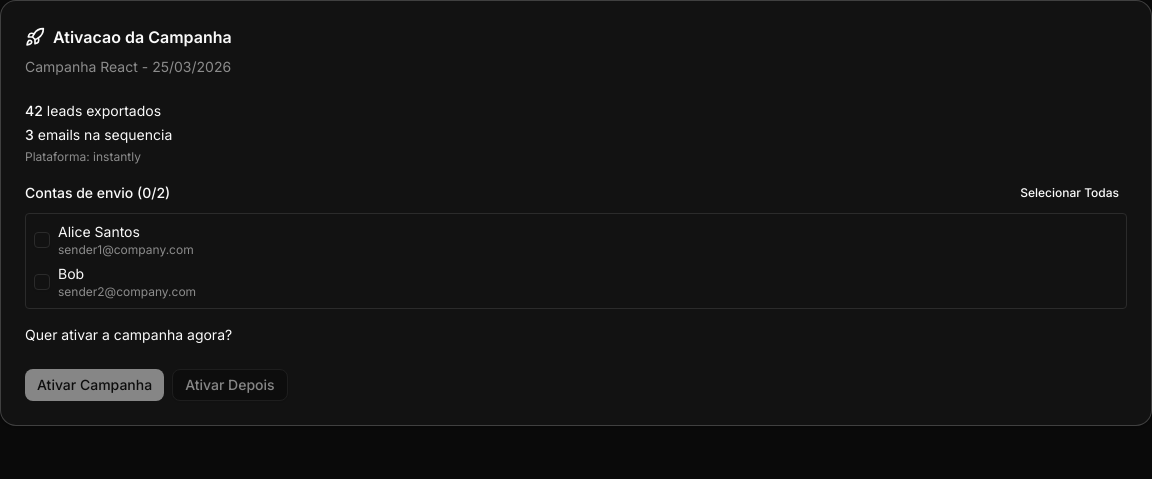
it: AgentActivationGate (AC: #4, #5, #6) › Story 22.18 (AC1) - falha do execute vira sinal › NAO exibe 'Campanha ativada' quando o execute devolve 409 EXECUTION_NOT_ACTIVE
The image size is (1152, 479).
Step 1. Click the checkbox named "Selecionar conta sender1@company.com" → (42, 240), box [34,232,50,248]
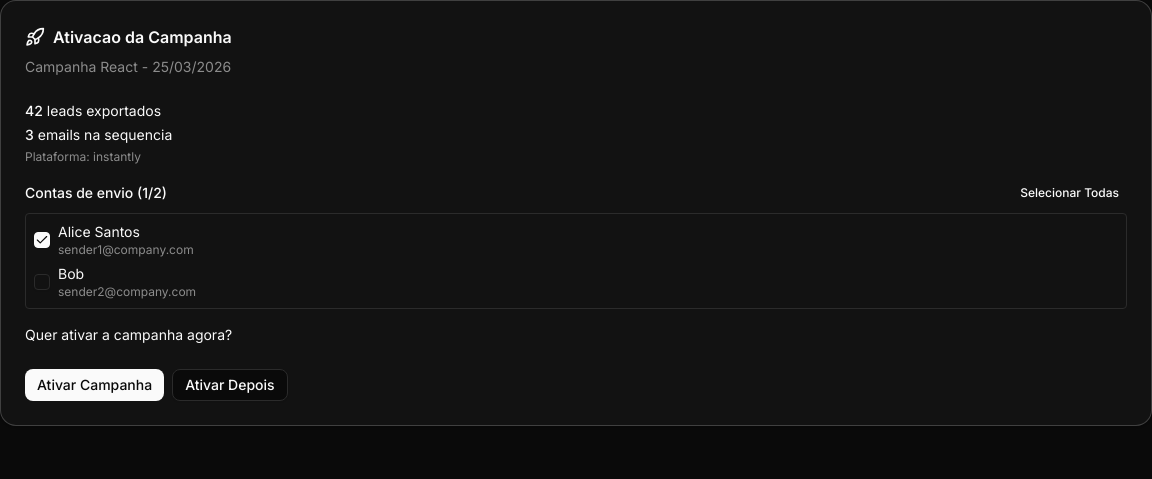
Step 2. Click the button with test id "activation-activate-btn" → (95, 385), box [25,369,164,401]
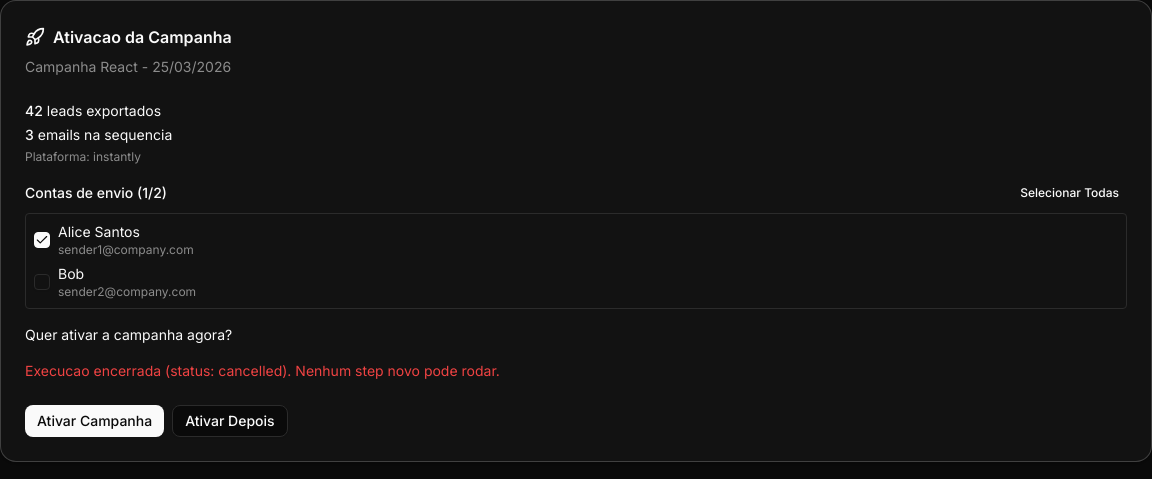
Expected: the text with test id "activation-gate-error" is shown, [25,362,500,379]
